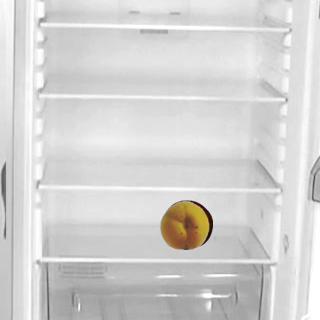Apple Braeburn: (162, 199, 212, 249)
Peach 2: (159, 199, 209, 249)
